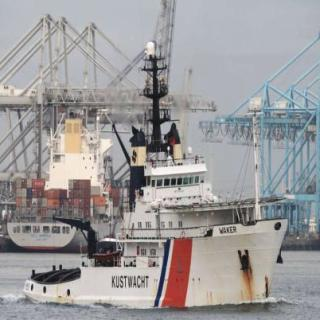Tug Boat: (5, 80, 310, 295)
